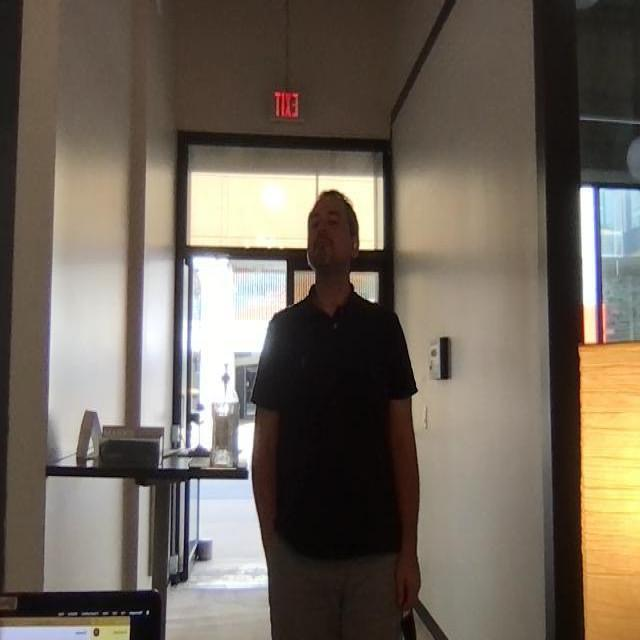face: (307, 192, 359, 276)
